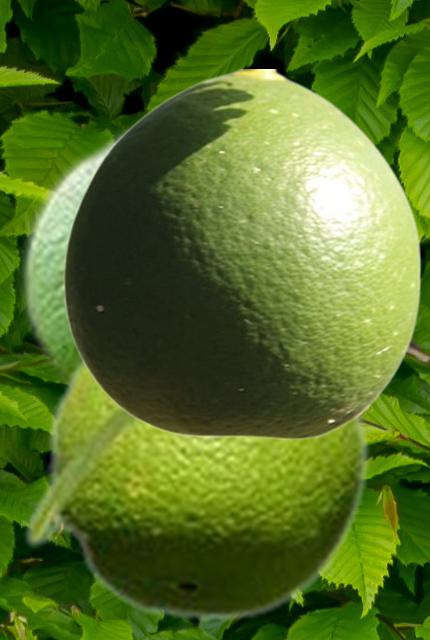dalandan: (62, 69, 421, 439), (21, 352, 371, 623), (17, 110, 148, 389)
